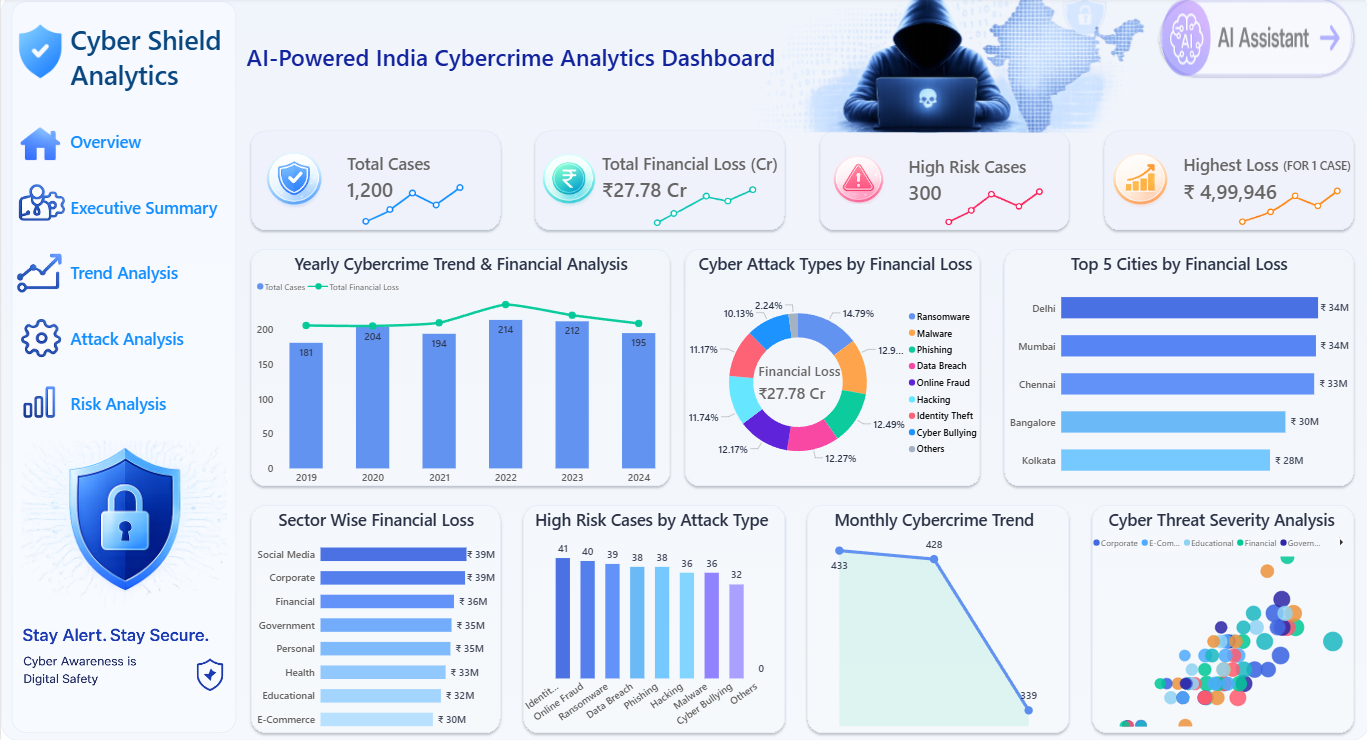

Layout of this report page (visuals, bound fields, positions):
{"tool":"powerbi","page":{"name":"Page 1","canvas":[2200,1200],"ordinal":0},"visuals":[{"type":"textbox","box":[390.1,66.4,892.8,90.5],"z":0},{"type":"cardVisual","fields":{"Data":["cyber_attacks.Total Cases"]},"box":[516.8,215.1,299.6,150.8],"z":1000},{"type":"image","box":[406.2,243.3,132.7,96.5],"z":2000},{"type":"cardVisual","fields":{"Data":["cyber_attacks.Total Financial Loss (Cr)"]},"box":[926.9,215.1,406.2,150.8],"z":3000},{"type":"image","box":[848.5,243.3,132.7,96.5],"z":4000},{"type":"cardVisual","fields":{"Data":["cyber_attacks.High Risk Cases"]},"box":[1419.6,227.2,299.6,134.7],"z":5000},{"type":"image","box":[1335.1,243.3,86.5,96.5],"z":6000},{"type":"cardVisual","fields":{"Data":["cyber_attacks.Highest Loss"]},"box":[1861.9,209.1,329.8,166.9],"z":7000},{"type":"image","box":[1769.4,245.3,130.7,94.5],"z":8000},{"type":"image","box":[514.7,295.6,299.6,88.5],"z":9000},{"type":"image","box":[983.2,295.6,299.6,86.5],"z":10000},{"type":"image","box":[1449.7,295.6,299.6,84.5],"z":11000},{"type":"image","box":[1984.6,295.6,174.9,86.5],"z":12000},{"type":"textbox","box":[2046.9,253.4,144.8,56.3],"z":13000},{"type":"lineClusteredColumnComboChart","title":"Yearly Cybercrime Trend & Financial Analysis","fields":{"Category":["cyber_attacks.year"],"Y":["cyber_attacks.Total Cases"],"Y2":["cyber_attacks.Total Financial Loss"]},"box":[406.2,410.2,667.6,384.1],"z":14000},{"type":"donutChart","title":"Cyber Attack Types by Financial Loss","fields":{"Category":["cyber_attacks.incident_type"],"Y":["Sum(cyber_attacks.amount_lost_inr)"]},"box":[1099.9,410.2,484.6,384.1],"z":15000},{"type":"cardVisual","fields":{"Data":["cyber_attacks.Total Financial Loss (Cr)"]},"box":[1178.3,546.9,261.4,146.8],"z":16000},{"type":"clusteredBarChart","title":"Top 5 Cities by Financial Loss","fields":{"Category":["cyber_attacks.city"],"Y":["Sum(cyber_attacks.amount_lost_inr)"]},"box":[1616.6,410.2,557,384.1],"z":17000},{"type":"clusteredBarChart","title":"Sector Wise Financial Loss","fields":{"Category":["cyber_attacks.category"],"Y":["Sum(cyber_attacks.amount_lost_inr)"]},"box":[406.2,822.4,394.1,372],"z":18000},{"type":"clusteredColumnChart","title":"High Risk Cases by Attack Type","fields":{"Category":["cyber_attacks.incident_type"],"Y":["Sum(cyber_attacks.is_high_value_attack)"]},"box":[836.5,822.4,420.2,372],"z":19000},{"type":"lineChart","title":"Monthly Cybercrime Trend","fields":{"Category":["cyber_attacks.day_range"],"Y":["cyber_attacks.Total Cases"]},"box":[1282.8,822.4,436.3,355.9],"z":20000},{"type":"scatterChart","title":"Cyber Threat Severity Analysis","fields":{"X":["Sum(cyber_attacks.amount_lost_inr)"],"Y":["Sum(cyber_attacks.is_high_value_attack)"],"Size":["CountNonNull(cyber_attacks.incident_type)"],"Category":["cyber_attacks.incident_type"],"Series":["cyber_attacks.category"]},"box":[1751.3,822.4,424.3,355.9],"z":21000},{"type":"actionButton","box":[1864,0,313.7,130.7],"z":22000},{"type":"textbox","box":[106.6,34.2,263.4,138.7],"z":23000},{"type":"image","box":[14.1,42.2,98.5,90.5],"z":24000},{"type":"textbox","box":[106.6,209.1,263.4,484.6],"z":25000},{"type":"image","box":[20.1,713.8,355.9,269.4],"z":26000},{"type":"image","box":[28.2,197.1,72.4,80.4],"z":27000},{"type":"image","box":[24.1,289.5,80.4,80.4],"z":28000},{"type":"image","box":[20.1,902.8,355.9,291.6],"z":29000},{"type":"image","box":[18.1,402.1,80.4,80.4],"z":30000},{"type":"image","box":[26.1,506.7,84.5,80.4],"z":31000},{"type":"image","box":[14.1,609.3,90.5,84.5],"z":32000}]}

Visuals, with their boxes in screenshot pixels (x1, y1, x2, y2), scaled from the page's 2200x1200 canvas onto the 1367x740 screenshot:
textbox: rect(242, 41, 797, 97)
cardVisual - cyber_attacks.Total Cases: rect(321, 133, 507, 226)
image: rect(252, 150, 335, 210)
cardVisual - cyber_attacks.Total Financial Loss (Cr): rect(576, 133, 828, 226)
image: rect(527, 150, 610, 210)
cardVisual - cyber_attacks.High Risk Cases: rect(882, 140, 1068, 223)
image: rect(830, 150, 883, 210)
cardVisual - cyber_attacks.Highest Loss: rect(1157, 129, 1362, 232)
image: rect(1099, 151, 1181, 210)
image: rect(320, 182, 506, 237)
image: rect(611, 182, 797, 236)
image: rect(901, 182, 1087, 234)
image: rect(1233, 182, 1342, 236)
textbox: rect(1272, 156, 1362, 191)
"Yearly Cybercrime Trend & Financial Analysis" lineClusteredColumnComboChart: rect(252, 253, 667, 490)
"Cyber Attack Types by Financial Loss" donutChart: rect(683, 253, 985, 490)
cardVisual - cyber_attacks.Total Financial Loss (Cr): rect(732, 337, 895, 428)
"Top 5 Cities by Financial Loss" clusteredBarChart: rect(1004, 253, 1351, 490)
"Sector Wise Financial Loss" clusteredBarChart: rect(252, 507, 497, 737)
"High Risk Cases by Attack Type" clusteredColumnChart: rect(520, 507, 781, 737)
"Monthly Cybercrime Trend" lineChart: rect(797, 507, 1068, 727)
"Cyber Threat Severity Analysis" scatterChart: rect(1088, 507, 1352, 727)
actionButton: rect(1158, 0, 1353, 81)
textbox: rect(66, 21, 230, 107)
image: rect(9, 26, 70, 82)
textbox: rect(66, 129, 230, 428)
image: rect(12, 440, 234, 606)
image: rect(18, 122, 63, 171)
image: rect(15, 179, 65, 228)
image: rect(12, 557, 234, 737)
image: rect(11, 248, 61, 298)
image: rect(16, 312, 69, 362)
image: rect(9, 376, 65, 428)
